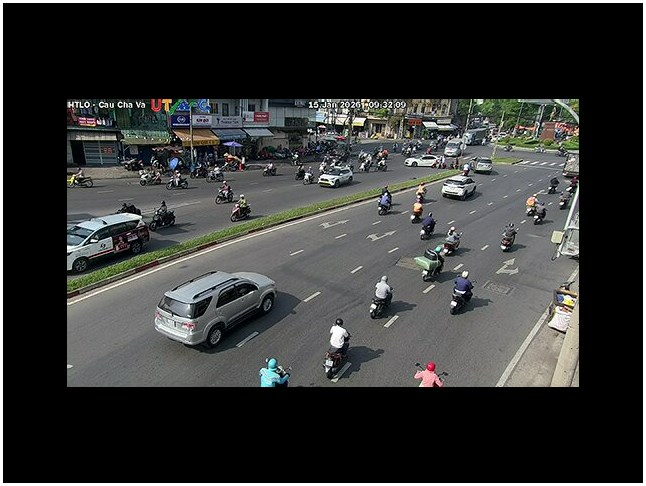car: (153, 268, 278, 348), (67, 212, 151, 273), (442, 176, 478, 200), (318, 164, 355, 187), (474, 158, 493, 174)
motorbike: (151, 203, 176, 229), (230, 196, 252, 222), (527, 198, 547, 224)
